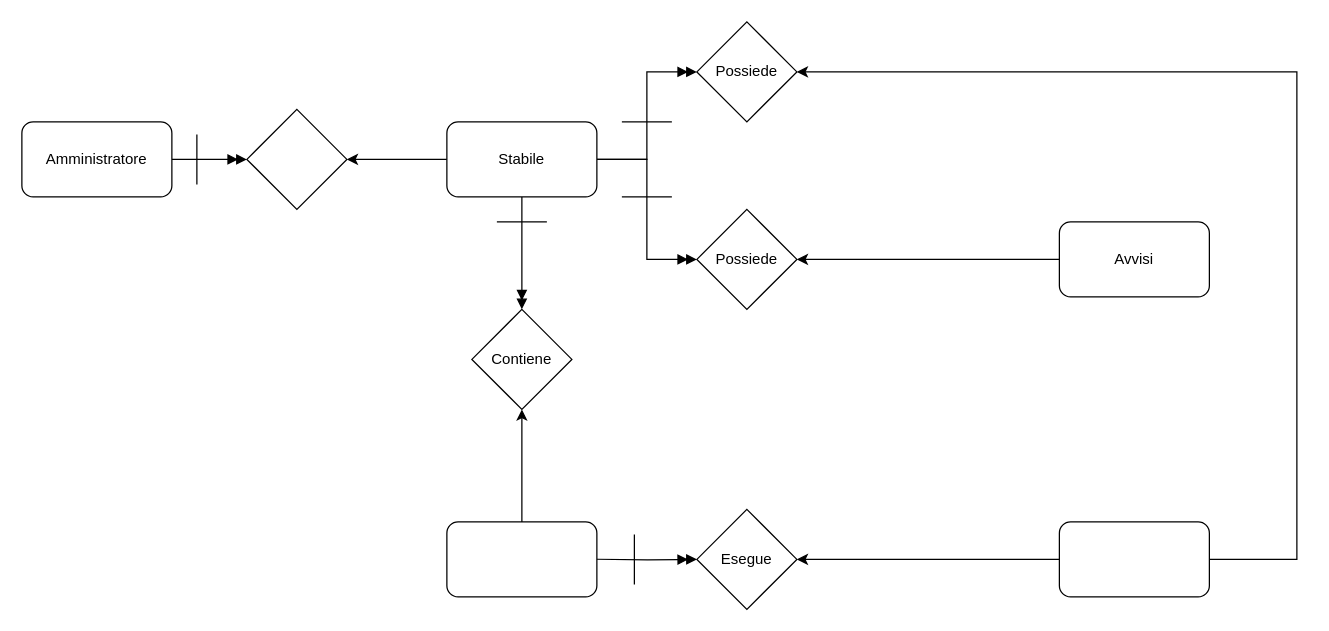
This 1329x631 diagram has some shape labels left out. The box of each missing label's shape, as (x1, y1, x2, y2) in pixels:
Appartamento: (446, 521, 597, 597)
Gestisce: (246, 108, 347, 209)
Richiesta intervento: (1058, 521, 1209, 597)
